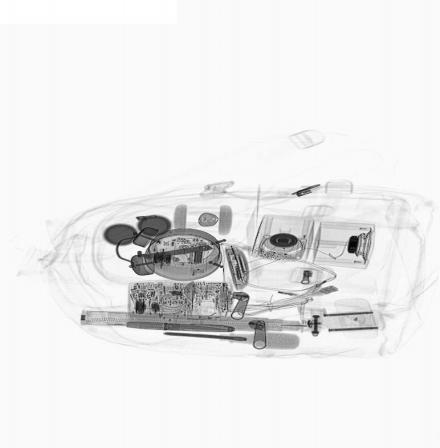Knife: (140, 245, 216, 260)
